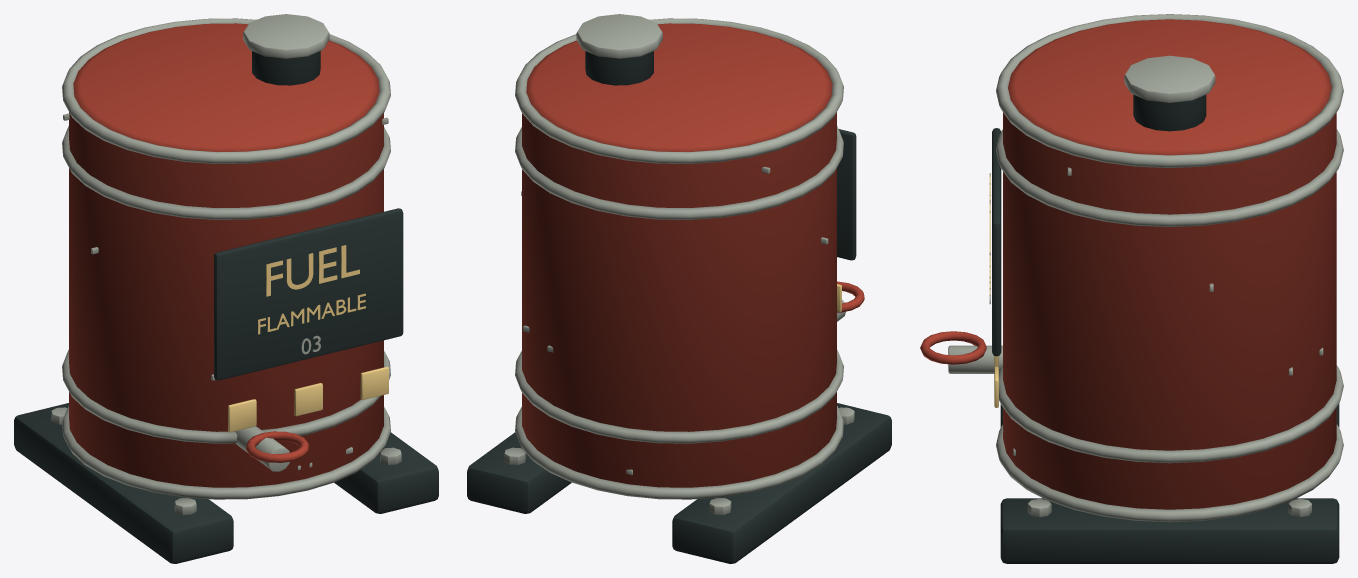
The model's file is kf-fuel-tank.glb.
3 views of the same model, side by side, from view 1: azimuth 30°, elevation 25°; view 2: azimuth 150°, elevation 25°; view 3: azimuth 270°, elevation 25° (orthographic). The views are drawn at different scales.
Visible parts, largest first — view 1: FuelTank Fuel enamel, FuelTank Charcoal metal, FuelTank Exposed steel, FuelTank Hazard ivory; view 2: FuelTank Fuel enamel, FuelTank Exposed steel, FuelTank Charcoal metal; view 3: FuelTank Fuel enamel, FuelTank Exposed steel, FuelTank Charcoal metal.
Part boxes in pixels (box(x1,y1,x2,y2)): FuelTank Fuel enamel: box(69, 23, 383, 487); FuelTank Charcoal metal: box(14, 51, 438, 563); FuelTank Exposed steel: box(51, 14, 401, 514); FuelTank Hazard ivory: box(228, 245, 388, 432); FuelTank Fuel enamel: box(522, 23, 864, 487); FuelTank Exposed steel: box(504, 14, 854, 514); FuelTank Charcoal metal: box(467, 51, 891, 563); FuelTank Fuel enamel: box(920, 19, 1336, 509); FuelTank Exposed steel: box(948, 14, 1343, 522); FuelTank Charcoal metal: box(992, 94, 1339, 563).
Bounding box in the file's own units: 1.34 × 1.92 × 1.63.
